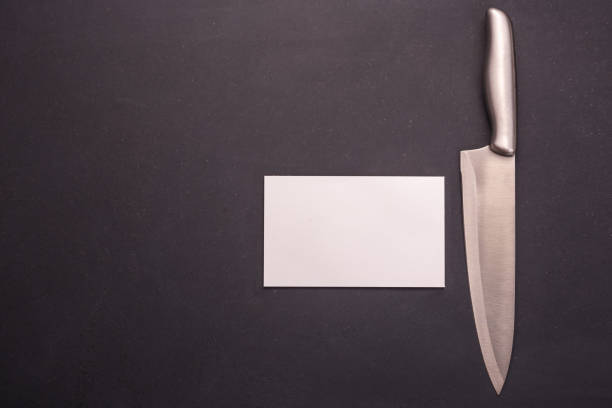knife: (456, 3, 521, 399)
